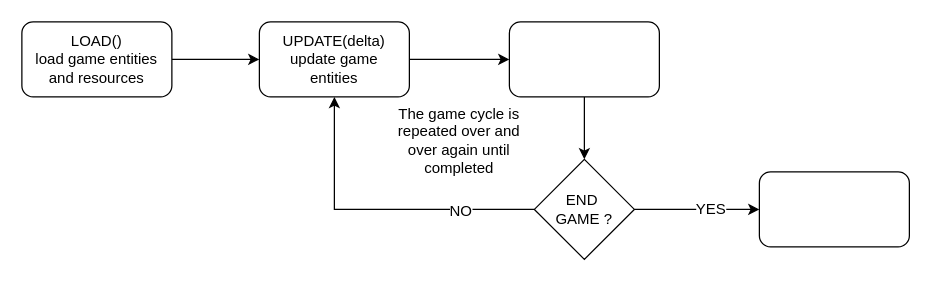
Some shapes in this 931 by 281 pixel diagram are drawn without their labels. Here are the shapes that lost their labels. From the top down, the centre of each, then its label:
the point at 583,59: DRAW(delta) draw game entities
the point at 833,209: DISPOSE() clear resources from memory
